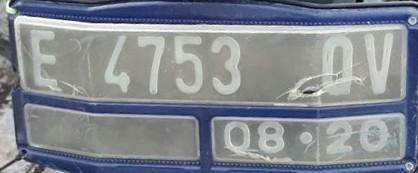clone-license-plate: (14, 19, 407, 167)
